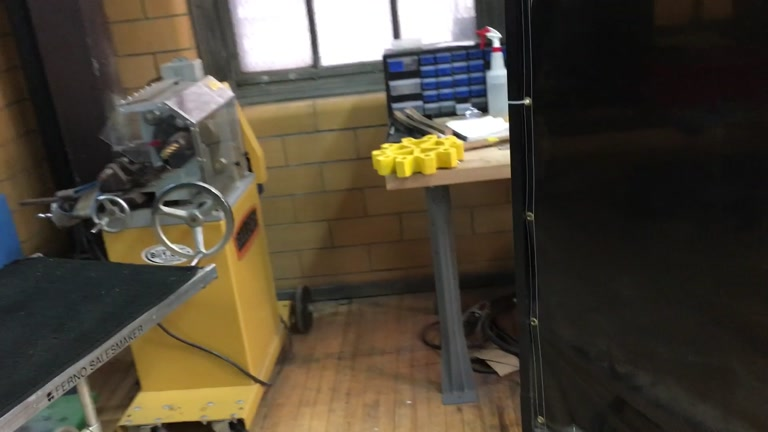gear: (370, 134, 464, 178)
